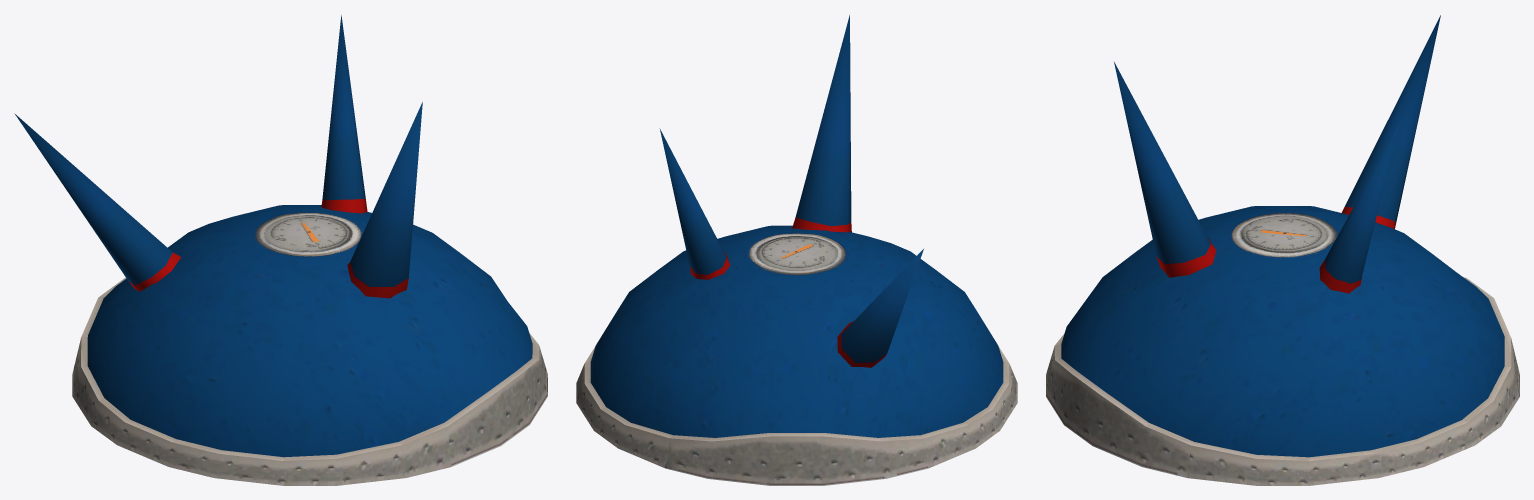
File: LandMine.fbx
The picture shows the model from 3 angles, left to right: view 1: azimuth 30°, elevation 25°; view 2: azimuth 150°, elevation 25°; view 3: azimuth 270°, elevation 25°; orthographic projection. The views are drawn at different scales.
Parts seen in each view (by area): view 1: node_id31; view 2: node_id31; view 3: node_id31.
Boxes of the visible parts, bbox=[...] form: node_id31: bbox=[14, 15, 547, 485]; node_id31: bbox=[576, 15, 1017, 485]; node_id31: bbox=[1046, 15, 1519, 485].
Size of the model in its own units: 0.512 by 0.4606 by 0.499.
1 material, 1 textured.
